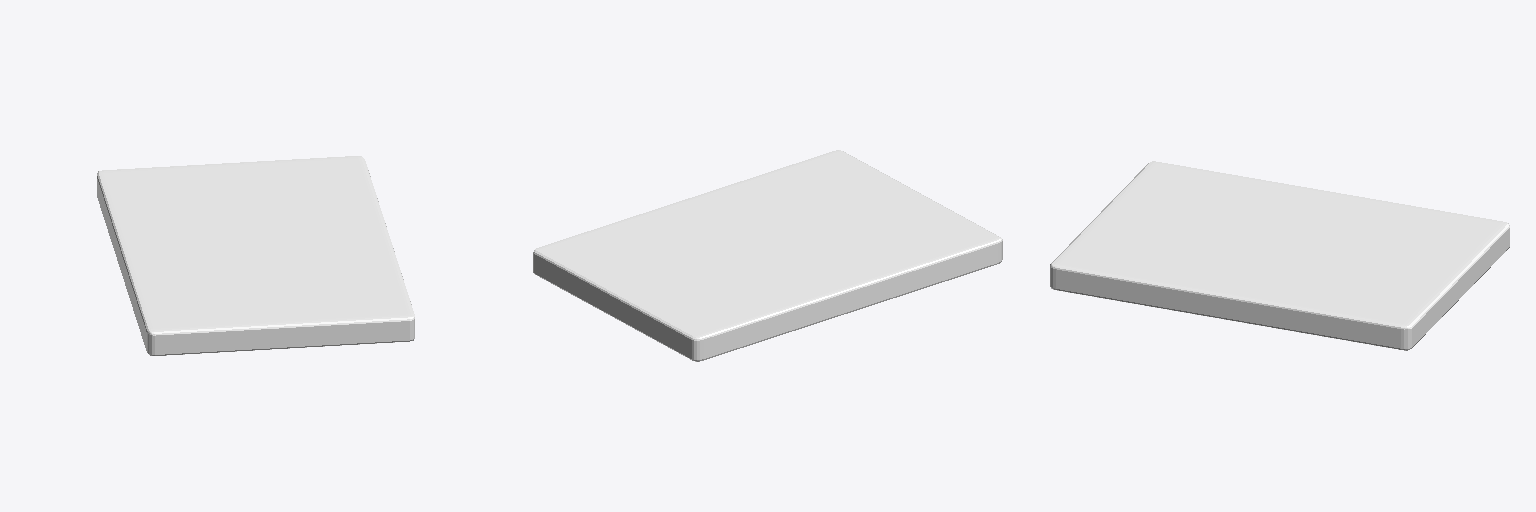
File: Llosa.obj
The picture shows the model from 3 angles: view 1: azimuth 30°, elevation 25°; view 2: azimuth 150°, elevation 25°; view 3: azimuth 270°, elevation 25°; orthographic projection.
Visible parts, largest first — view 1: Llosa; view 2: Llosa; view 3: Llosa.
Boxes of the visible parts, x1,y1,x2,y2 form: Llosa: [97, 156, 414, 355]; Llosa: [533, 150, 1002, 361]; Llosa: [1050, 161, 1509, 350].
Size of the model in its own units: 1.19 by 0.0816 by 1.39.